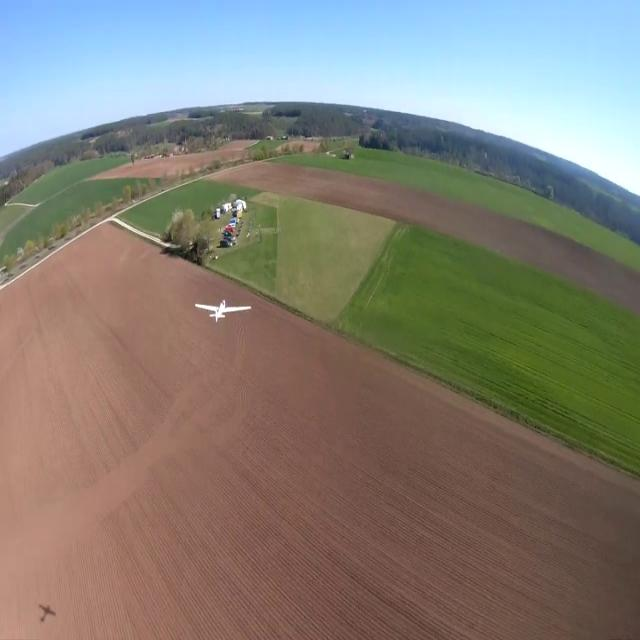iha: (195, 296, 249, 322)
